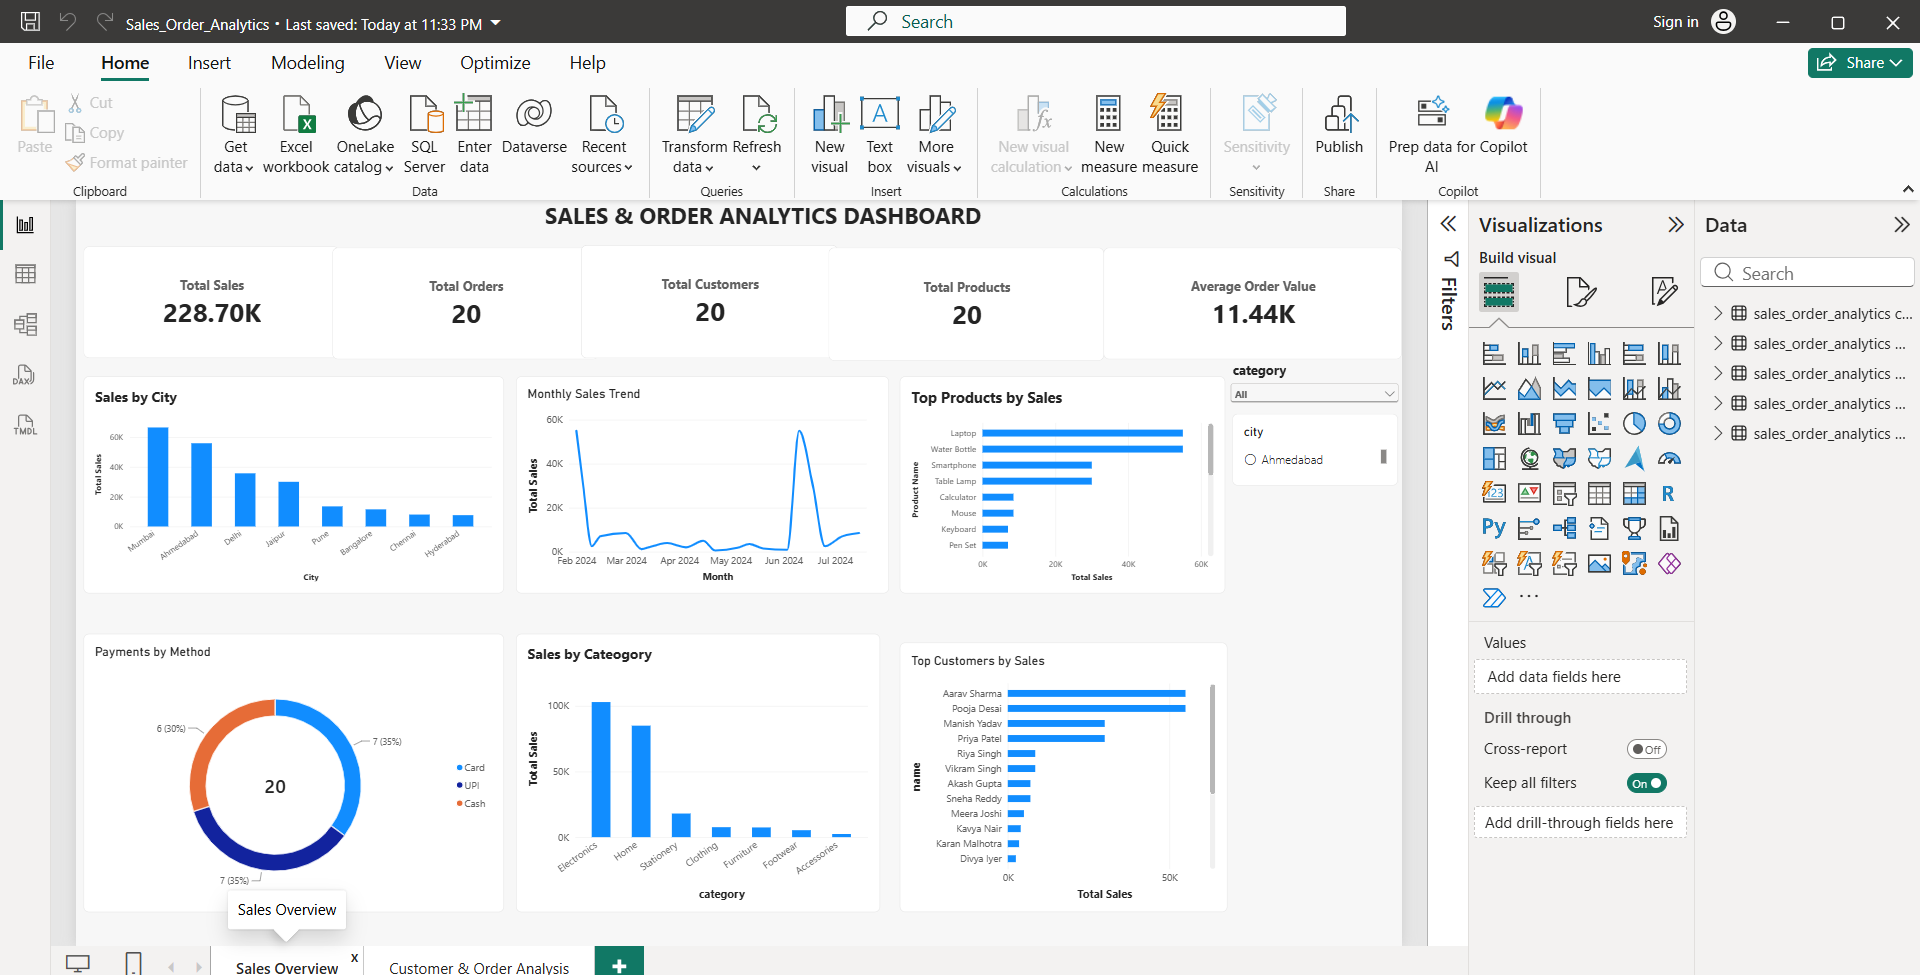

This screenshot's page, from the dashboard's own definition file:
{"tool":"powerbi","page":{"name":"Sales Overview","canvas":[1920,1080],"ordinal":0},"visuals":[{"type":"cardVisual","fields":{"Data":["sales_order_analytics customers.Total Sales"]},"box":[10,67.1,370,162.9],"z":0},{"type":"cardVisual","fields":{"Data":["sales_order_analytics customers.Total Orders"]},"box":[370.5,67.9,387,162.6],"z":1},{"type":"cardVisual","fields":{"Data":["sales_order_analytics customers.Total Customers"]},"box":[730.7,65.9,372.6,164.7],"z":2},{"type":"cardVisual","fields":{"Data":["sales_order_analytics customers.Total Products"]},"box":[1088.9,67.9,399.3,164.7],"z":3},{"type":"clusteredColumnChart","title":"Sales by City","fields":{"Category":["sales_order_analytics customers.city"],"Y":["sales_order_analytics customers.Total Sales"]},"box":[10,255.7,608.6,314.3],"z":4},{"type":"lineChart","title":"Monthly Sales Trend","fields":{"Category":["sales_order_analytics orders.order_date"],"Y":["sales_order_analytics customers.Total Sales"]},"box":[637.1,255.7,540,314.3],"z":7},{"type":"clusteredBarChart","title":"Top Customers by Sales","fields":{"Category":["sales_order_analytics customers.name"],"Y":["sales_order_analytics customers.Total Sales"]},"box":[1192.9,640,474.3,390],"z":9},{"type":"donutChart","title":"Payments by Method","fields":{"Category":["sales_order_analytics payments.payment_method"],"Y":["CountNonNull(sales_order_analytics payments.payment_id)"]},"box":[10,627.1,608.6,402.9],"z":11},{"type":"listSlicer","fields":{"Values":["sales_order_analytics customers.city"]},"box":[1674.3,308.6,240,104.3],"z":13},{"type":"slicer","fields":{"Values":["sales_order_analytics products.category"]},"box":[1667.1,232.9,252.9,65.7],"z":15},{"type":"textbox","box":[598.3,0,791.7,66.7],"z":16},{"type":"cardVisual","fields":{"Data":["sales_order_analytics customers.Average Order Value"]},"box":[1488.2,67.9,432.2,162.6],"z":17},{"type":"clusteredColumnChart","title":"Sales by Cateogory","fields":{"Category":["sales_order_analytics products.category"],"Y":["sales_order_analytics customers.Total Sales"]},"box":[637.1,627.1,527.1,402.9],"z":18},{"type":"clusteredBarChart","title":"Top Products by Sales","fields":{"Category":["sales_order_analytics products.product_name"],"Y":["sales_order_analytics customers.Total Sales"]},"box":[1192.9,255.7,471.4,314.3],"z":21}]}

Visuals, with their boxes on the page's 1920x1080 design canvas (x1, y1, x2, y2). These are canvas units, not pixel positions in the 1920x975 screenshot, which may show the page scaled, cropped or inside an application window:
cardVisual - sales_order_analytics customers.Total Sales: box(10, 67, 380, 230)
cardVisual - sales_order_analytics customers.Total Orders: box(370, 68, 758, 230)
cardVisual - sales_order_analytics customers.Total Customers: box(731, 66, 1103, 231)
cardVisual - sales_order_analytics customers.Total Products: box(1089, 68, 1488, 233)
"Sales by City" clusteredColumnChart: box(10, 256, 619, 570)
"Monthly Sales Trend" lineChart: box(637, 256, 1177, 570)
"Top Customers by Sales" clusteredBarChart: box(1193, 640, 1667, 1030)
"Payments by Method" donutChart: box(10, 627, 619, 1030)
listSlicer - sales_order_analytics customers.city: box(1674, 309, 1914, 413)
slicer - sales_order_analytics products.category: box(1667, 233, 1920, 299)
textbox: box(598, 0, 1390, 67)
cardVisual - sales_order_analytics customers.Average Order Value: box(1488, 68, 1920, 230)
"Sales by Cateogory" clusteredColumnChart: box(637, 627, 1164, 1030)
"Top Products by Sales" clusteredBarChart: box(1193, 256, 1664, 570)
